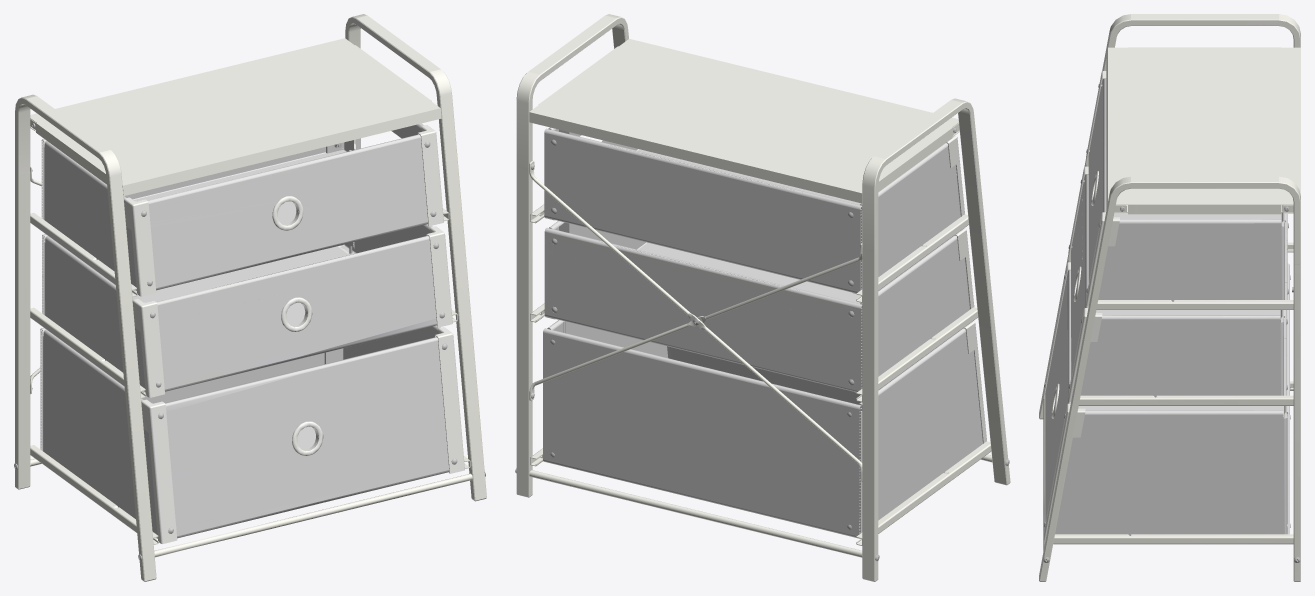
The picture shows the model from 3 angles, left to right: view 1: azimuth 30°, elevation 25°; view 2: azimuth 150°, elevation 25°; view 3: azimuth 270°, elevation 25°; orthographic projection. The views are drawn at different scales.
Parts seen in each view (by area): view 1: 50293722-LOTE002; view 2: 50293722-LOTE002; view 3: 50293722-LOTE002.
Part boxes in pixels (x1,y1,x2,y2): 50293722-LOTE002: (14,14,486,581); 50293722-LOTE002: (515,14,1010,581); 50293722-LOTE002: (1039,14,1300,581).
Size of the model in its own units: 0.5554 by 0.608 by 0.3606.
1 material, 1 textured.
